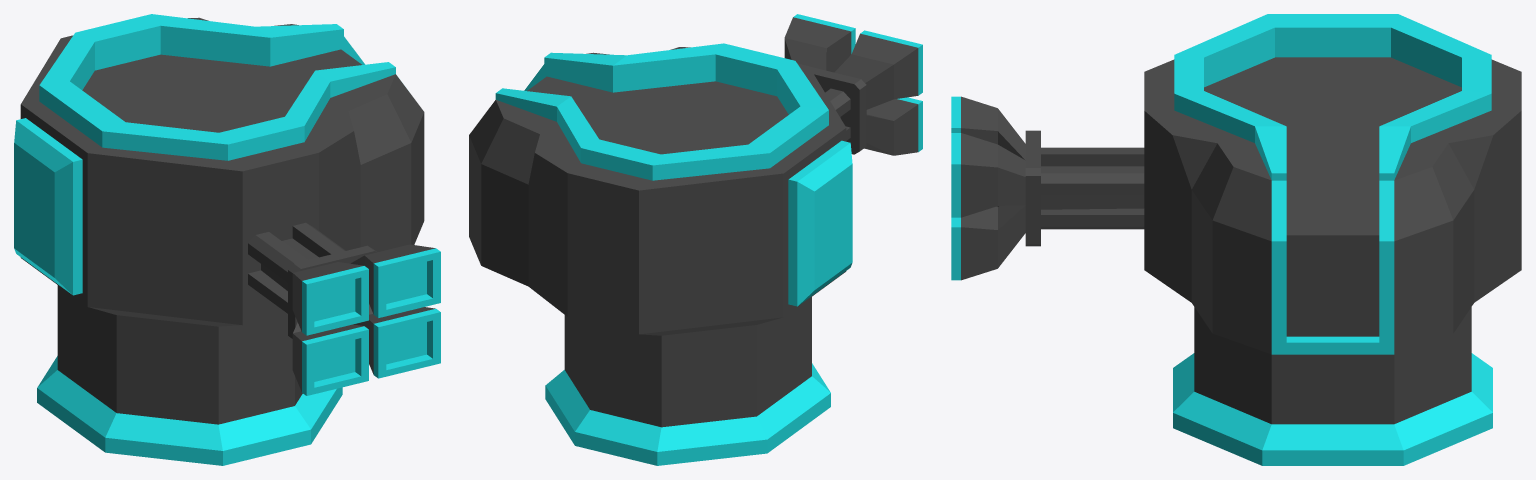
The model's file is DroneTractorBeam.fbx.
The picture shows the model from 3 angles, left to right: view 1: azimuth 30°, elevation 25°; view 2: azimuth 150°, elevation 25°; view 3: azimuth 270°, elevation 25°; orthographic projection. The views are drawn at different scales.
Parts seen in each view (by area): view 1: DroneTractorBeam, DroneTractorBeamBarrel, DroneTractorBeamBase; view 2: DroneTractorBeam, DroneTractorBeamBarrel, DroneTractorBeamBase; view 3: DroneTractorBeam, DroneTractorBeamBarrel, DroneTractorBeamBase.
Boxes of the visible parts, x1,y1,x2,y2 form: DroneTractorBeam: [14, 14, 424, 424]; DroneTractorBeamBarrel: [248, 222, 440, 395]; DroneTractorBeamBase: [37, 356, 342, 465]; DroneTractorBeam: [469, 43, 852, 427]; DroneTractorBeamBarrel: [784, 14, 922, 155]; DroneTractorBeamBase: [545, 363, 830, 465]; DroneTractorBeam: [1144, 14, 1521, 424]; DroneTractorBeamBarrel: [951, 96, 1144, 280]; DroneTractorBeamBase: [1173, 353, 1492, 465].
Bounding box in the file's own units: 0.7144 × 0.541 × 0.4583.
